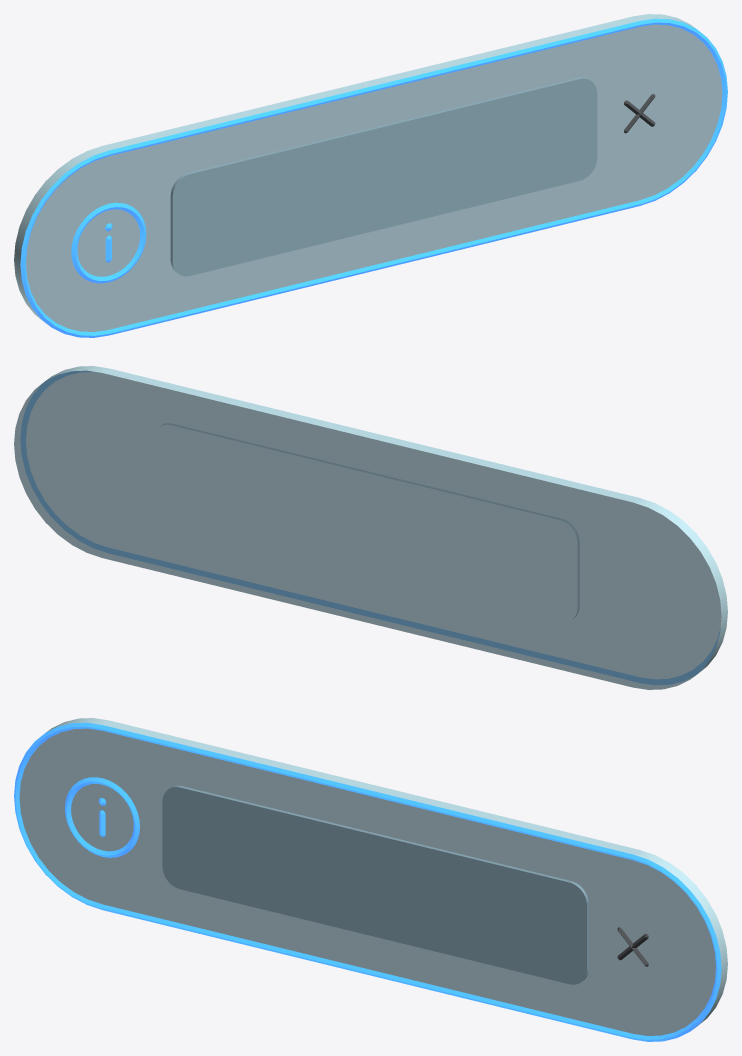
The model's file is toast-notification-68ccf5.glb.
The picture shows the model from 3 angles, top to bottom: view 1: azimuth 30°, elevation 25°; view 2: azimuth 150°, elevation 25°; view 3: azimuth 330°, elevation 25°; orthographic projection.
Parts seen in each view (by area): view 1: glass, accent-line, rim-and-close, status-glyph; view 2: glass, rim-and-close, accent-line; view 3: glass, accent-line, rim-and-close, status-glyph.
Boxes of the visible parts, x1,y1,x2,y2 form: glass: (26, 24, 722, 331); accent-line: (20, 18, 727, 337); rim-and-close: (14, 14, 695, 325); status-glyph: (71, 202, 146, 283); glass: (14, 370, 721, 689); rim-and-close: (46, 366, 727, 677); accent-line: (21, 371, 719, 684); glass: (19, 728, 715, 1035); accent-line: (14, 722, 721, 1041); rim-and-close: (46, 718, 727, 1029); status-glyph: (65, 777, 139, 857).
Size of the model in its own units: 0.32 by 0.08 by 0.0065.
